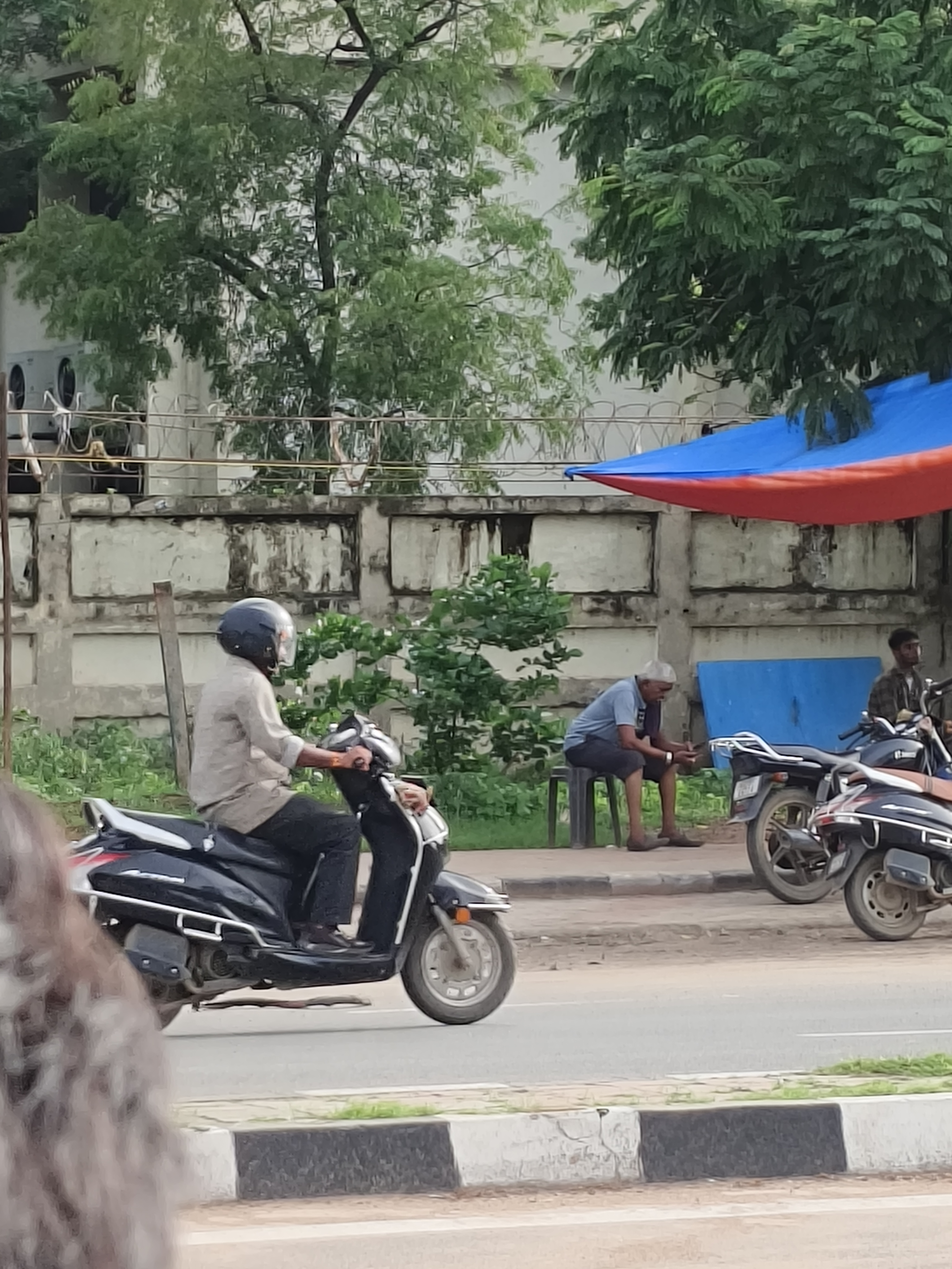BikeWithRider: (45, 588, 530, 1051)
Helmet: (203, 590, 307, 686)
